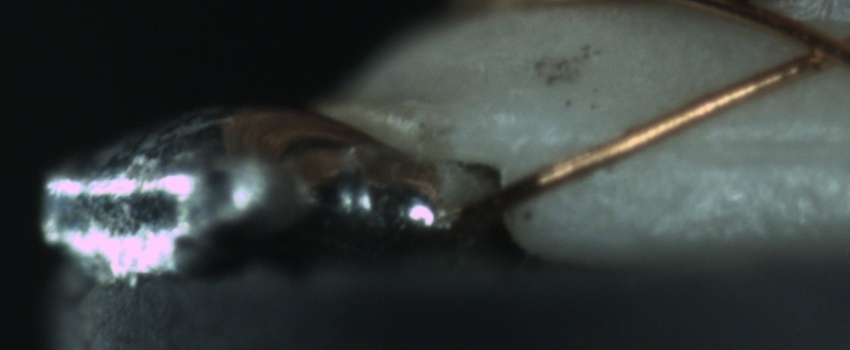CL: (776, 14, 848, 79)
DL: (624, 111, 849, 183)
